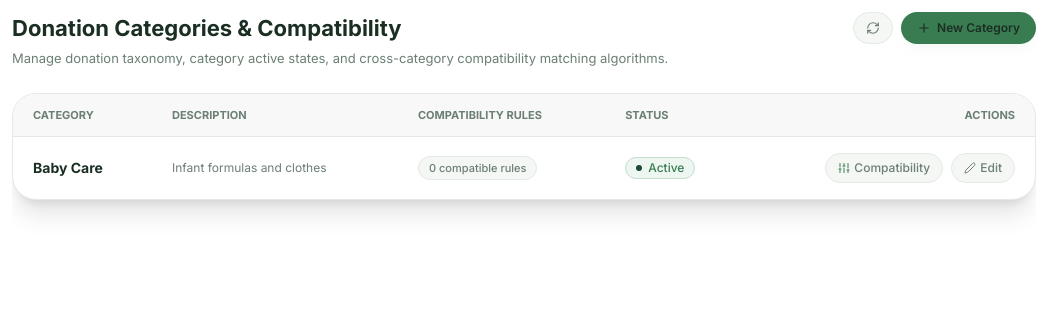
Test: Phase 16: Administrator Frontend Tests › T-16.1-07 (F) 409 on category deactivate surfaces usage counts
The image size is (1048, 310).
Expected: the text "Baby Care" is shown, [13, 137, 152, 199]
Toggle active status
Click the button "Active" at x=660, y=168, box [625, 157, 695, 179]
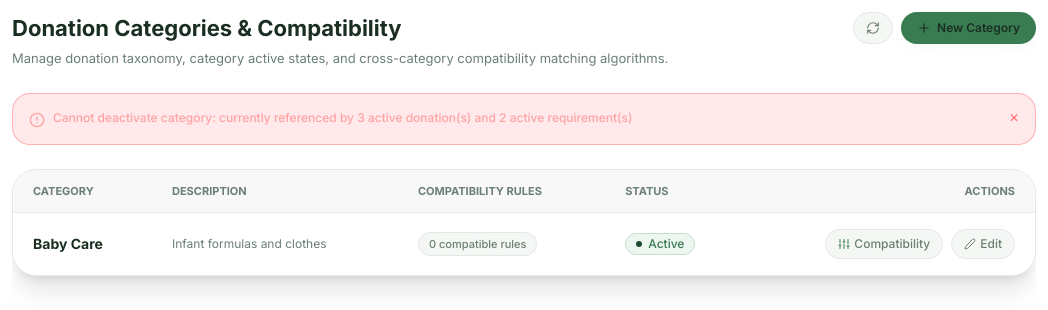
Now the text "currently referenced by 3 active donation(s) and 2 active requirement(s)" is shown, box [53, 110, 632, 124]
